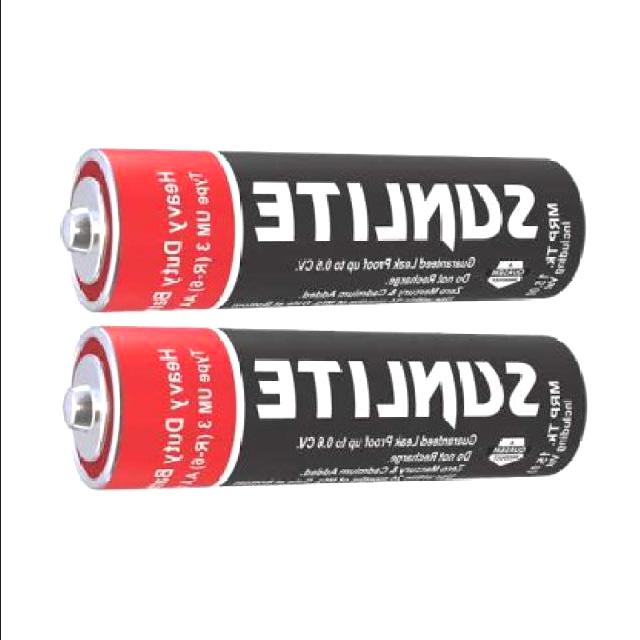AA: (55, 323, 594, 497), (52, 145, 586, 318)
